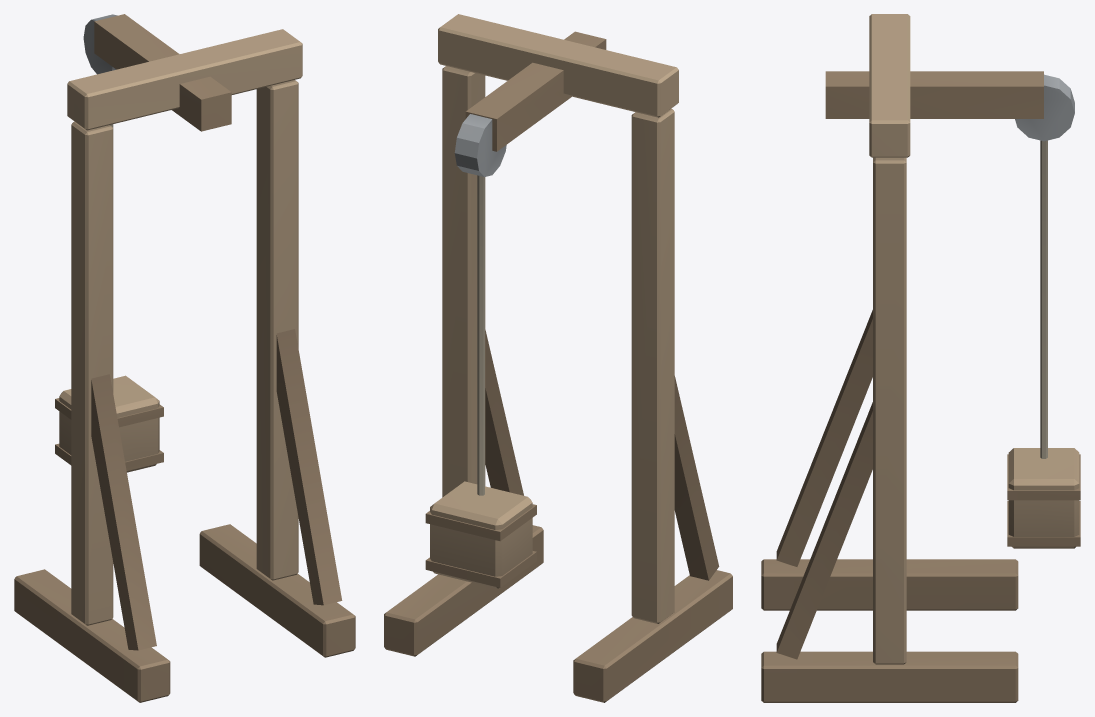
The model's file is crane_small.glb.
3 renders of one model, left to right at view 1: azimuth 30°, elevation 25°; view 2: azimuth 150°, elevation 25°; view 3: azimuth 270°, elevation 25°, orthographic. The views are drawn at different scales.
Visible parts, largest first — view 1: geometry_crane_small, geometry_wheel; view 2: geometry_crane_small, geometry_wheel; view 3: geometry_crane_small, geometry_wheel.
Part boxes in pixels (<box>): geometry_crane_small: <box>14,14,355,702</box>; geometry_wheel: <box>83,14,117,74</box>; geometry_crane_small: <box>384,14,732,702</box>; geometry_wheel: <box>454,114,506,176</box>; geometry_crane_small: <box>761,14,1080,702</box>; geometry_wheel: <box>1015,74,1074,141</box>.
Bounding box in the file's own units: 2 × 5 × 2.48.
